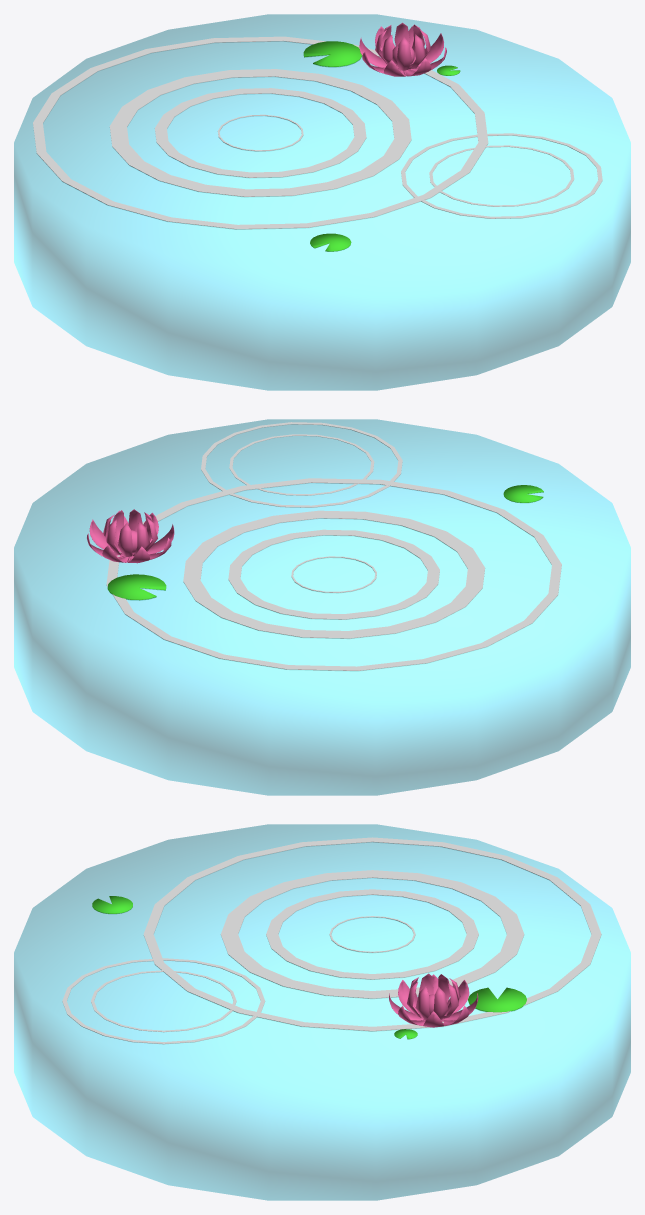
Rendered from 蓮の花1.1.glb.
3 renders of one model, top to bottom at view 1: azimuth 30°, elevation 25°; view 2: azimuth 150°, elevation 25°; view 3: azimuth 270°, elevation 25°, orthographic.
Visible parts, largest first — view 1: 球.002; view 2: 球.002; view 3: 球.002.
Boxes of the visible parts, x1,y1,x2,y2 form: 球.002: (14, 14, 630, 390); 球.002: (14, 419, 630, 795); 球.002: (14, 824, 630, 1200).
Bounding box in the file's own units: 11.52 × 3.32 × 11.69.
